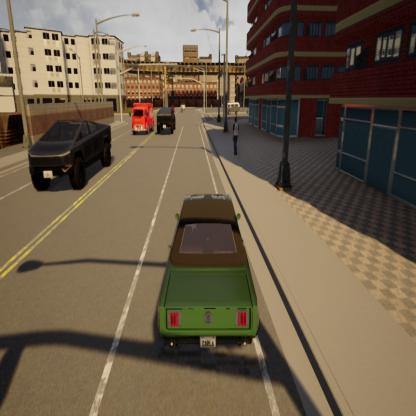Cars: (154, 186, 266, 358), (21, 112, 116, 199), (130, 100, 156, 136), (156, 107, 178, 136), (222, 99, 242, 116), (179, 101, 187, 113)
Pedestrian: (230, 115, 243, 160)
